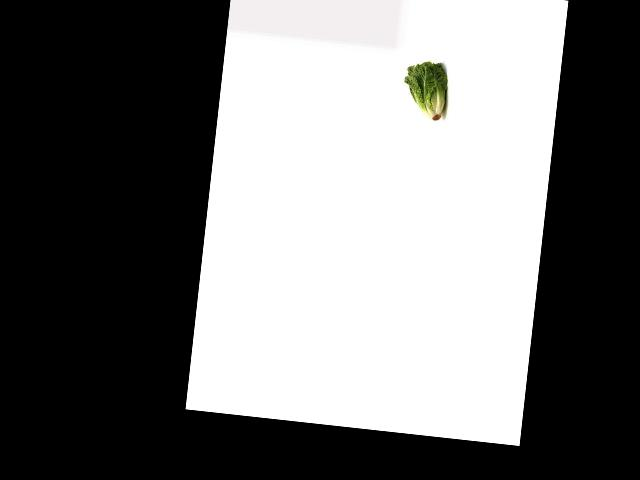lettuce: (400, 59, 451, 124)
